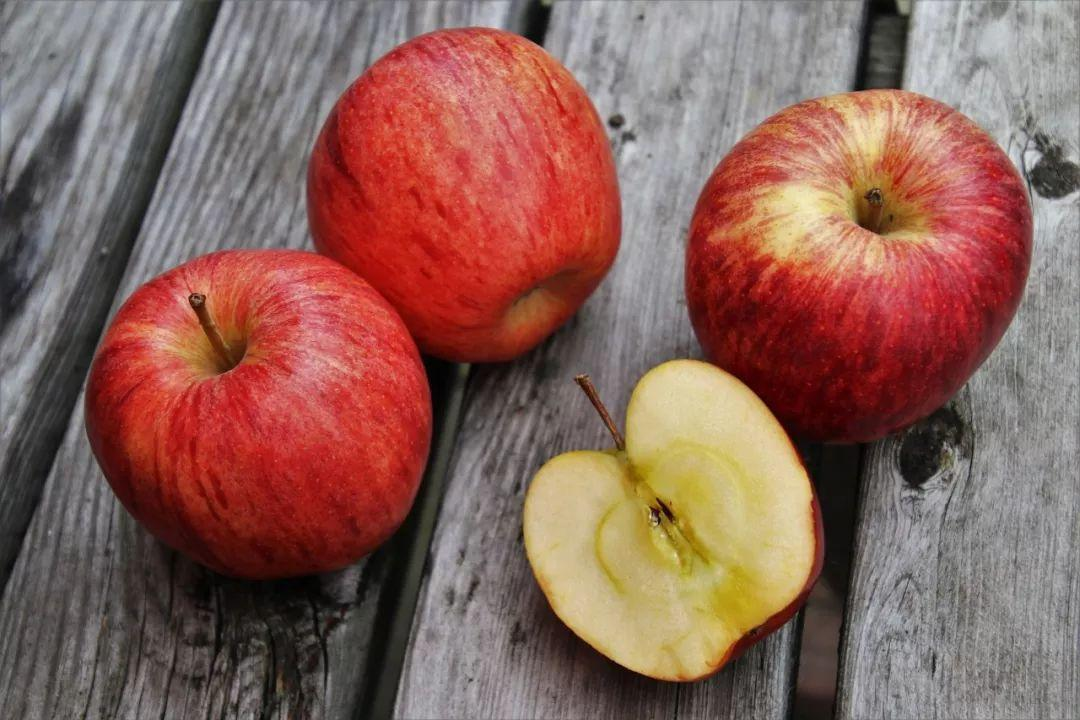apple: (679, 86, 1034, 448), (79, 245, 436, 583), (297, 25, 619, 366)
